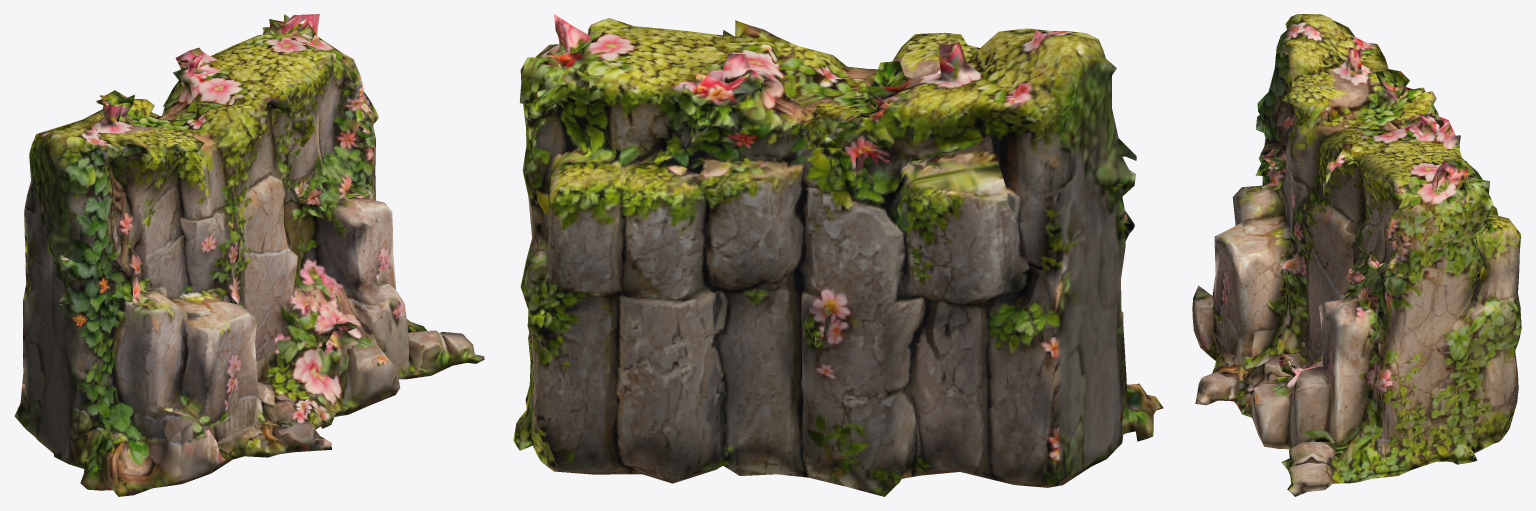
Rendered from FullBloom_Wall.fbx.
The picture shows the model from 3 angles, left to right: view 1: azimuth 30°, elevation 25°; view 2: azimuth 150°, elevation 25°; view 3: azimuth 270°, elevation 25°; orthographic projection. The views are drawn at different scales.
Parts seen in each view (by area): view 1: FullBloom_Wall_Mesh; view 2: FullBloom_Wall_Mesh; view 3: FullBloom_Wall_Mesh.
Boxes of the visible parts, left/top/right/bottom form: FullBloom_Wall_Mesh: left=14, top=14, right=484, bottom=496; FullBloom_Wall_Mesh: left=513, top=14, right=1163, bottom=496; FullBloom_Wall_Mesh: left=1192, top=14, right=1521, bottom=496.
Bounding box in the file's own units: 6 × 4.28 × 4.23.
1 material, 1 textured.
